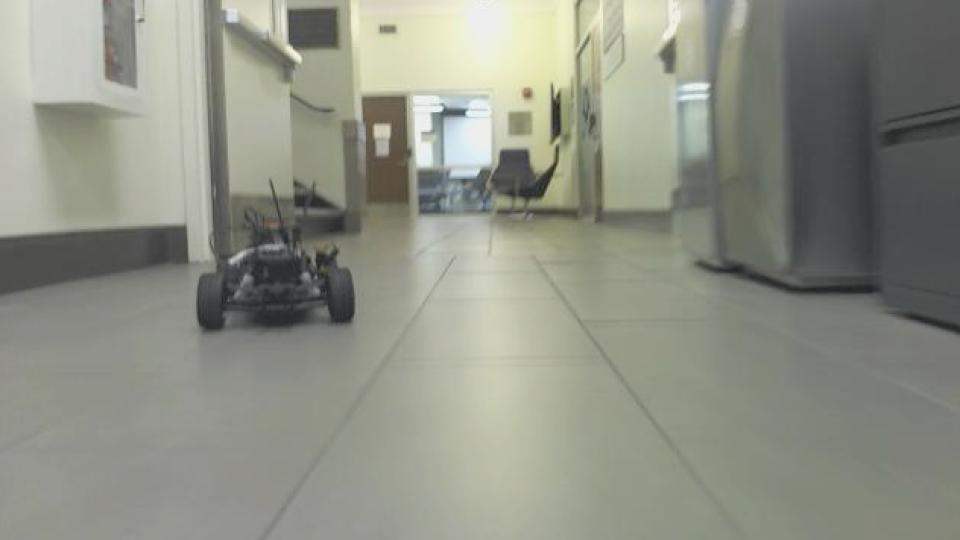car: (193, 175, 360, 332)
